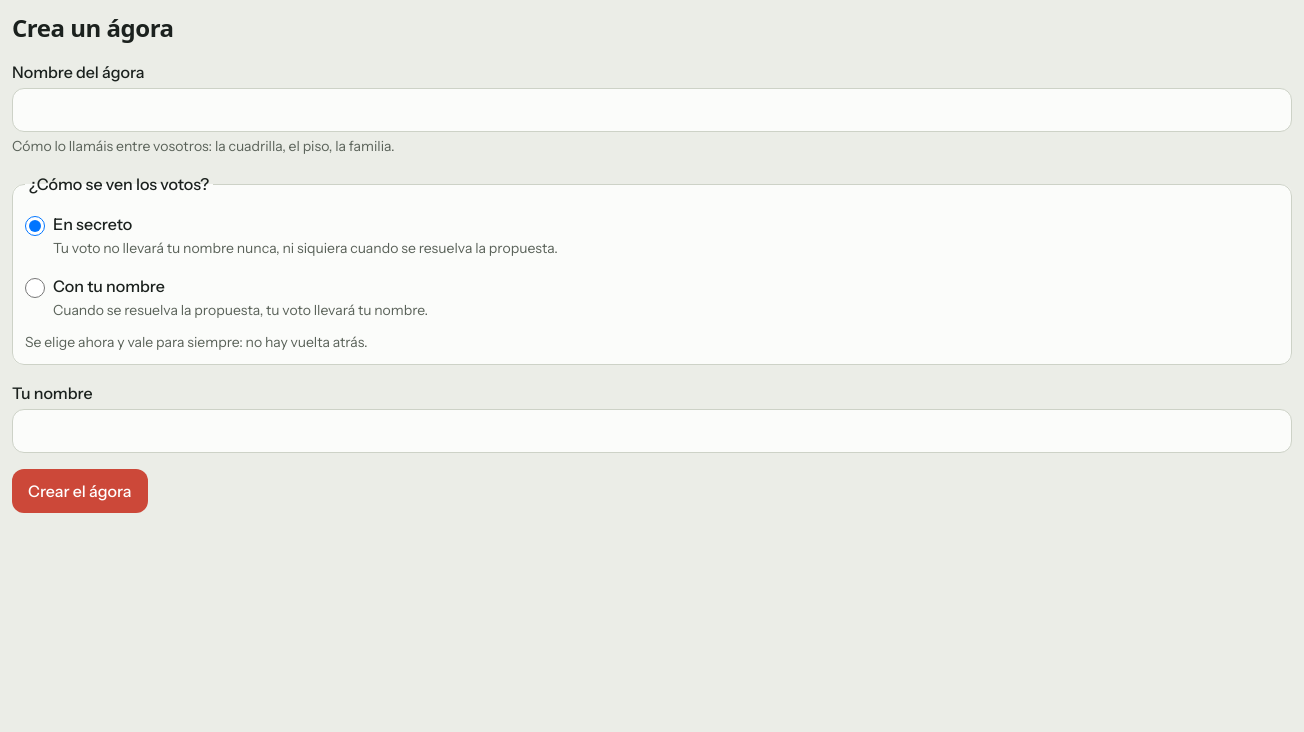
Test: CreateAgoraForm › translates a failed create rather than printing what the database said
Type "Piso de Gros" into the field labelled "Nombre del ágora" at (652, 110), box [12, 88, 1292, 132]
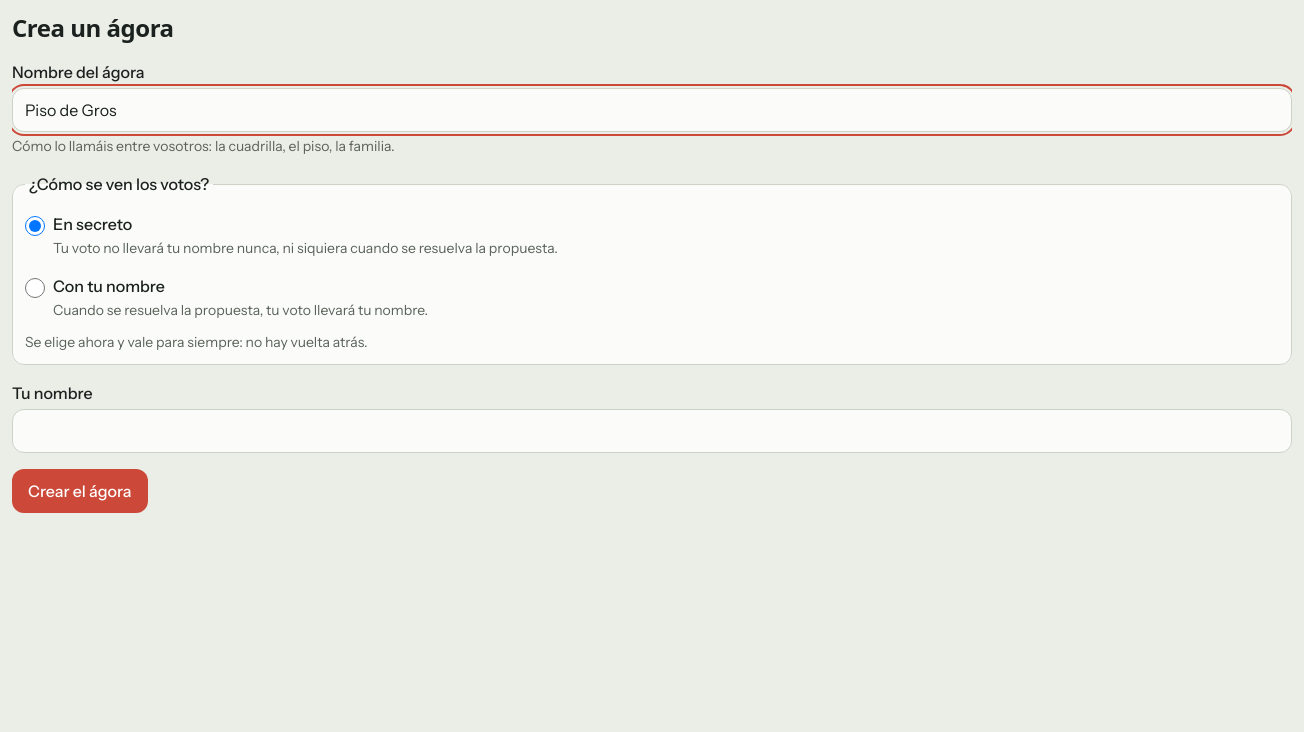
Type "Endika" into the field labelled "Tu nombre" at (652, 431), box [12, 409, 1292, 453]
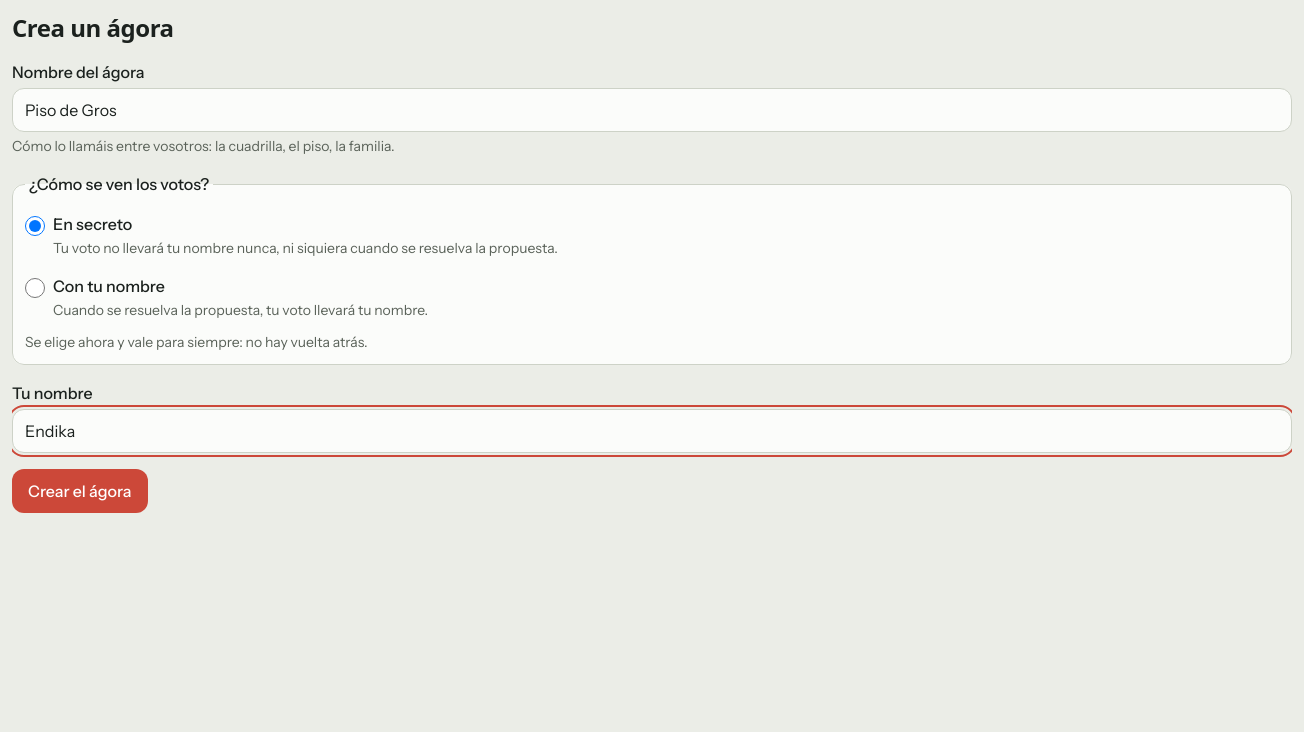
Click the button "Crear el ágora" at (80, 491), box [12, 469, 148, 513]
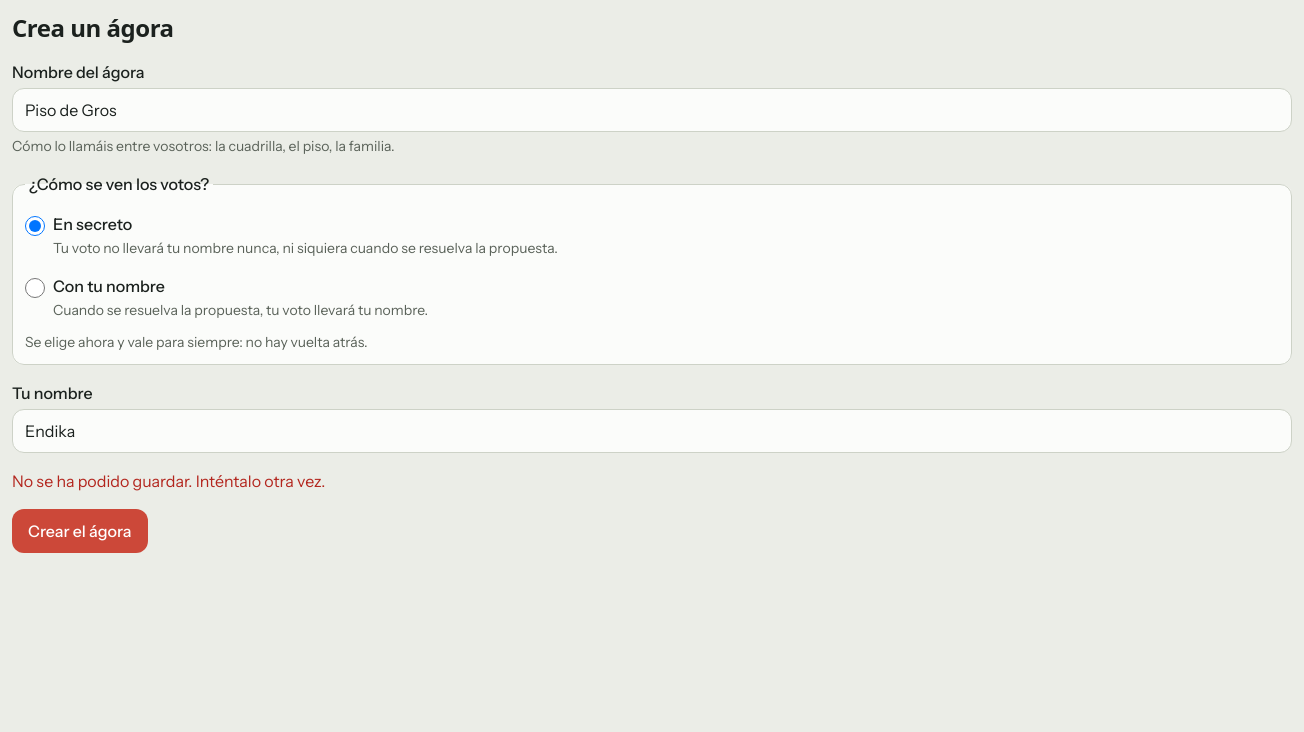
Result: the message reads "No se ha podido guardar. Inténtalo otra vez." at [12, 471, 325, 491]
